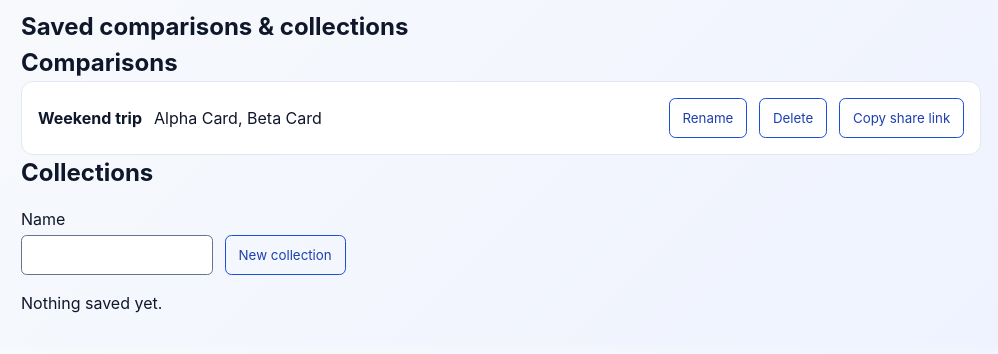
Scenario: SavedPage › reports an API limit error when creating a collection
Click the button "Copy share link".
click(902, 118)  # box [839,98,964,138]
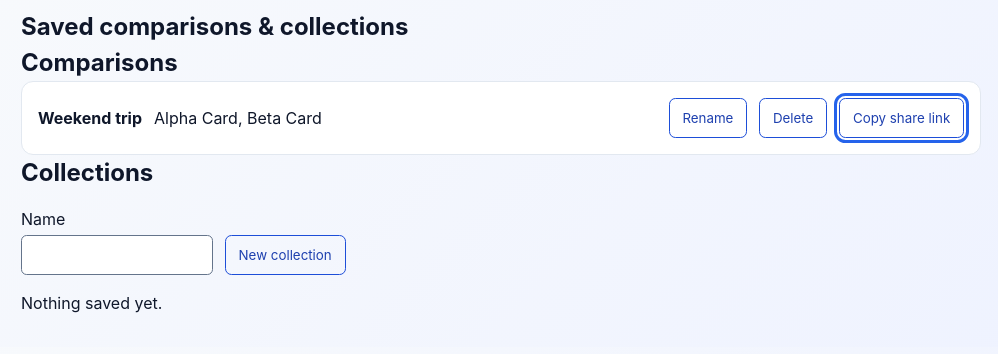
Type "Another collection" into the field labelled "Name".
click(117, 255); type("Another collection")  # box [21,235,213,275]
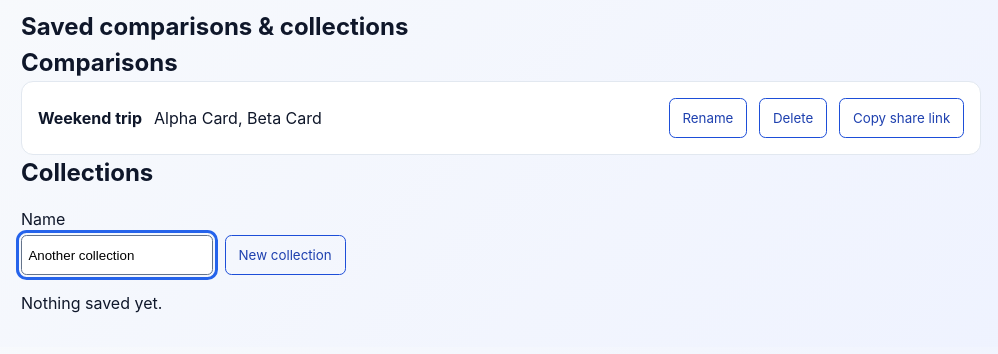
Click the button "New collection".
click(285, 255)  # box [225,235,346,275]
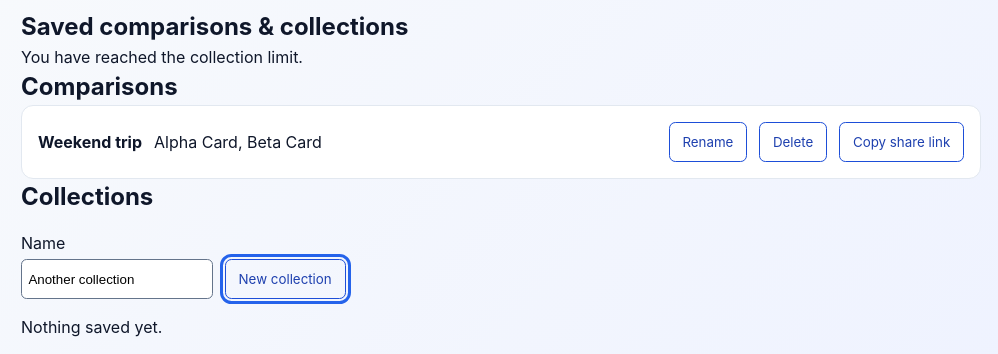
Result: the message reads "You have reached the collection limit." at [21,47,303,67]
